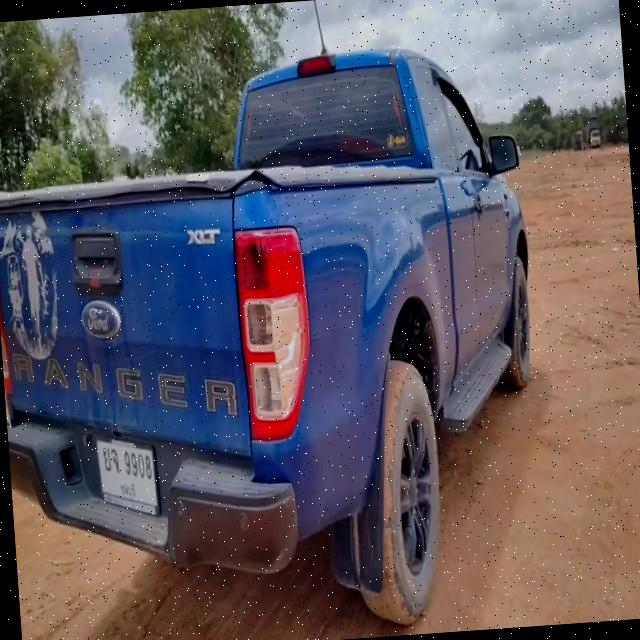Digit: (122, 448, 153, 483)
Licenseplate: (95, 435, 161, 518)
Provincename: (119, 482, 139, 505)
Thaichar: (101, 444, 119, 474)
